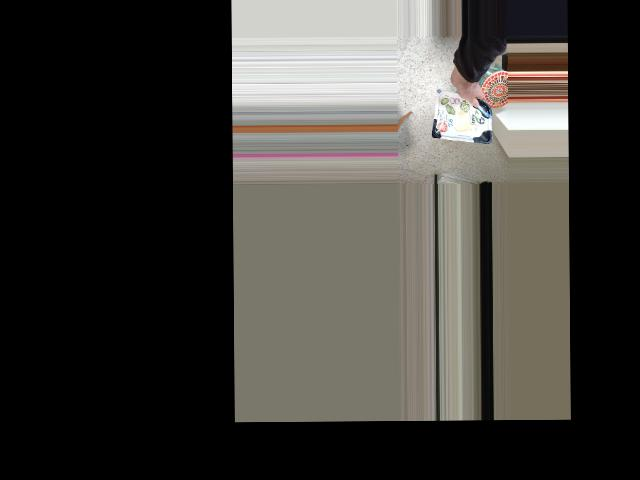cheese: (432, 80, 484, 127)
